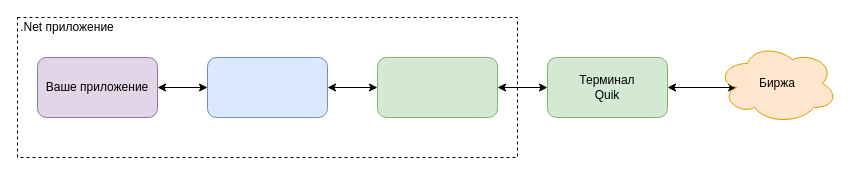
Image size: 855x175. Some labels were removed from this diagram. The shapes that lost their labels are listed below. From the top down, each one's box as (x1, y1, x2, y2) in pixels, then its label:
(206, 56, 328, 118): Бибоиотека nTrans2Quik
(376, 56, 498, 118): API импорта транзакций (trans2Quik.dll)
